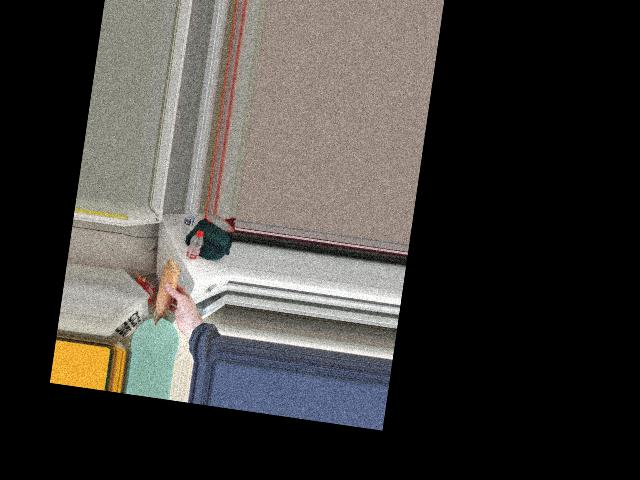sweet_potato: (154, 255, 179, 328)
